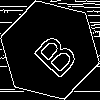B: (25, 25, 81, 81)
